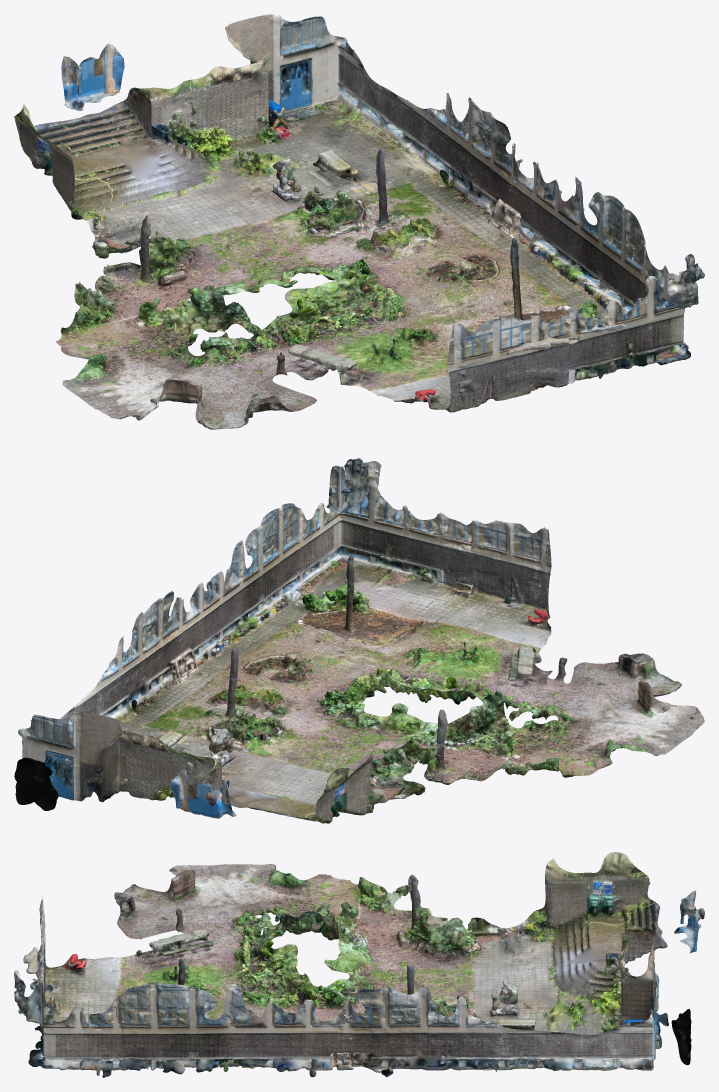
The picture shows the model from 3 angles, top to bottom: view 1: azimuth 30°, elevation 25°; view 2: azimuth 150°, elevation 25°; view 3: azimuth 270°, elevation 25°; orthographic projection. The views are drawn at different scales.
Parts seen in each view (by area): view 1: o_mesh_0, o_mesh_3, o_mesh_2, o_mesh_4, o_mesh_1, o_mesh_5; view 2: o_mesh_0, o_mesh_3, o_mesh_4, o_mesh_2, o_mesh_1, o_mesh_5; view 3: o_mesh_0, o_mesh_4, o_mesh_1, o_mesh_2, o_mesh_3, o_mesh_5.
Boxes of the visible parts, x1,y1,x2,y2 form: o_mesh_0: (20,14,698,429); o_mesh_3: (48,66,695,429); o_mesh_2: (14,16,704,403); o_mesh_4: (15,26,694,420); o_mesh_1: (64,40,703,429); o_mesh_5: (61,19,697,420); o_mesh_0: (14,459,678,823); o_mesh_3: (99,470,695,814); o_mesh_4: (18,465,704,823); o_mesh_2: (30,458,668,805); o_mesh_1: (22,461,682,816); o_mesh_5: (44,462,696,818); o_mesh_0: (14,852,696,1072); o_mesh_4: (27,865,704,1077); o_mesh_1: (14,875,692,1071); o_mesh_2: (15,867,704,1072); o_mesh_3: (14,864,702,1076); o_mesh_5: (14,869,695,1074).
Bounding box in the file's own units: 24.45 × 4.92 × 32.78.
Materials: 6 (6 with a texture image).
